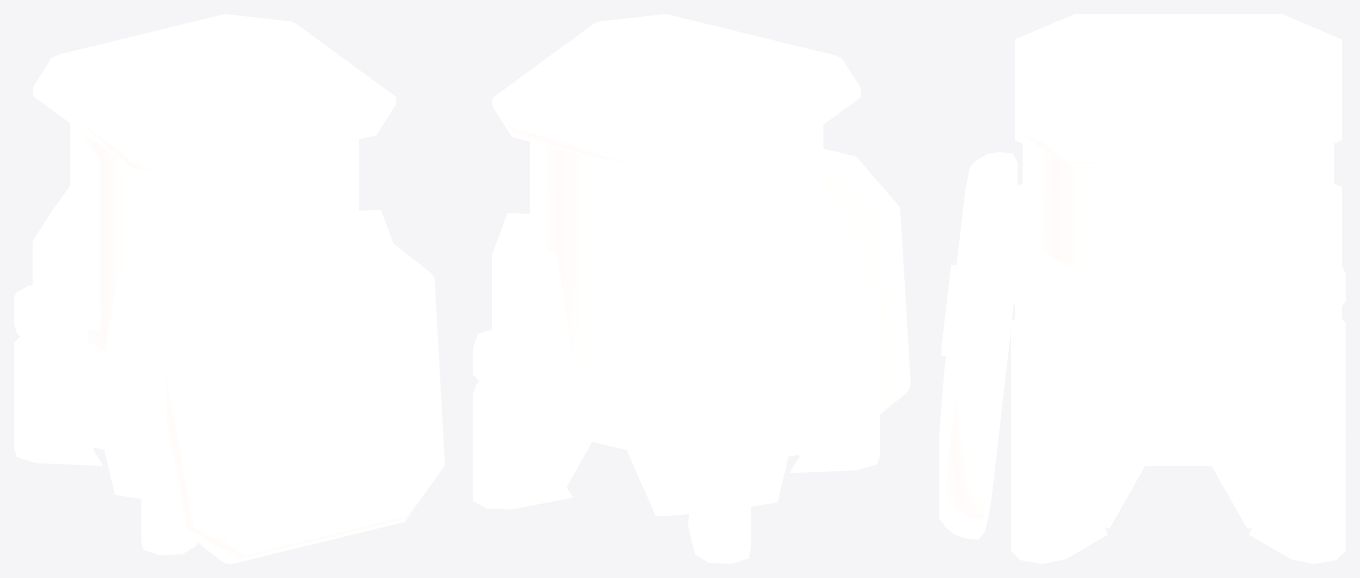
File: StreetAssets_Lootbox_Open.glb
3 views of the same model, side by side, from view 1: azimuth 30°, elevation 25°; view 2: azimuth 150°, elevation 25°; view 3: azimuth 270°, elevation 25° (orthographic). The views are drawn at different scales.
Visible parts, largest first — view 1: Loot_Box_Empty; view 2: Loot_Box_Empty; view 3: Loot_Box_Empty.
Boxes of the visible parts, bbox=[...] form: Loot_Box_Empty: bbox=[14, 14, 444, 563]; Loot_Box_Empty: bbox=[473, 14, 910, 563]; Loot_Box_Empty: bbox=[939, 14, 1345, 563].
Bounding box in the file's own units: 0.8308 × 1.13 × 1.01.
